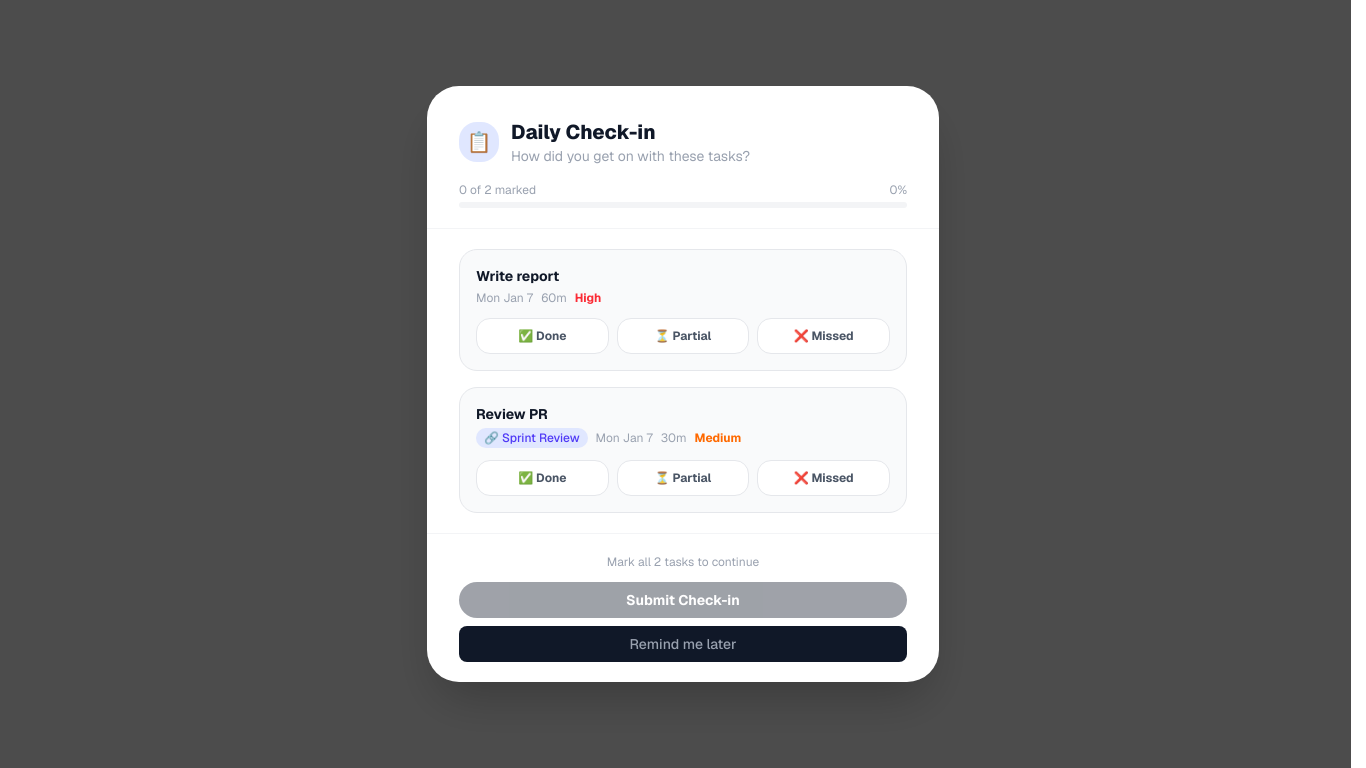
CheckInModal — footer › shows Saving while submitting
Step 1. Click the button "✅ Done" below "60" → (542, 336), box x1=476 y1=318 x2=609 y2=354
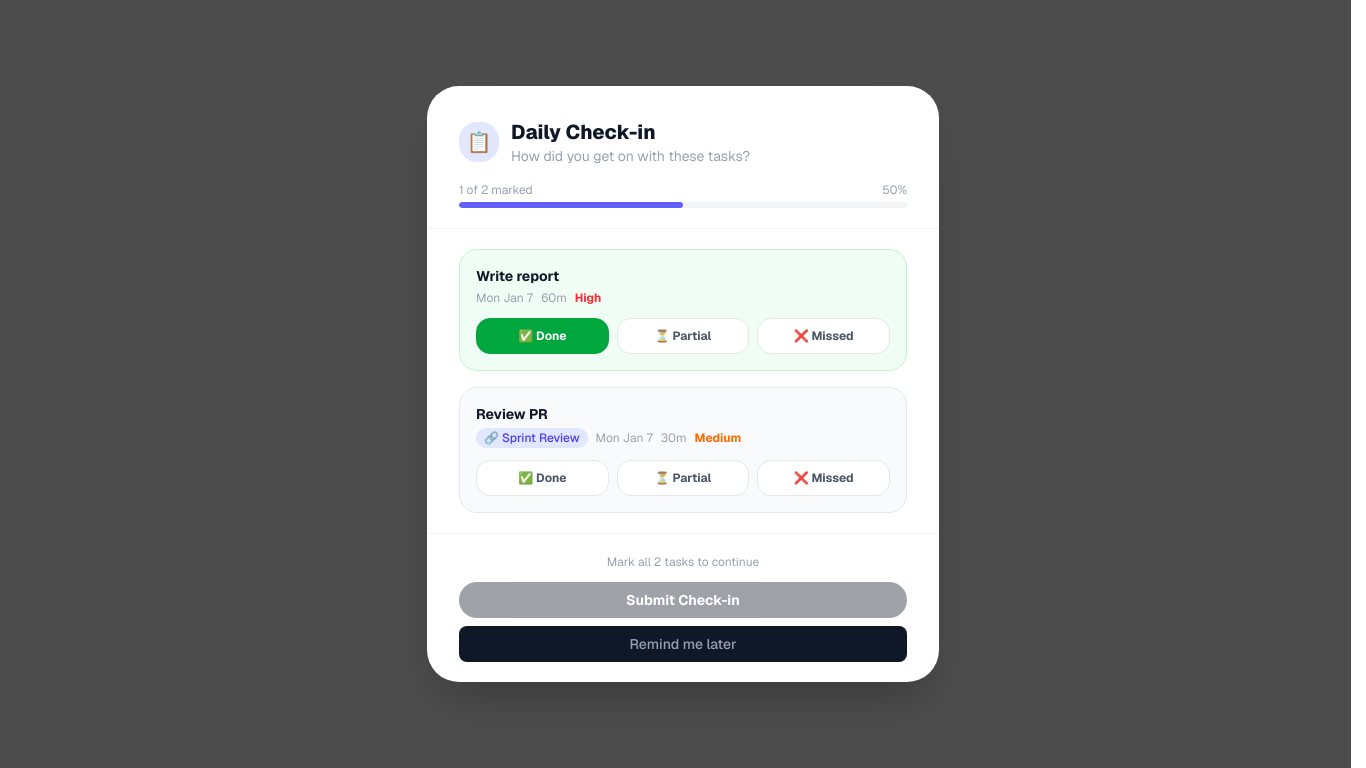
Step 2. Click the button "✅ Done" below "Sprint Review" → (542, 478), box x1=476 y1=460 x2=609 y2=496
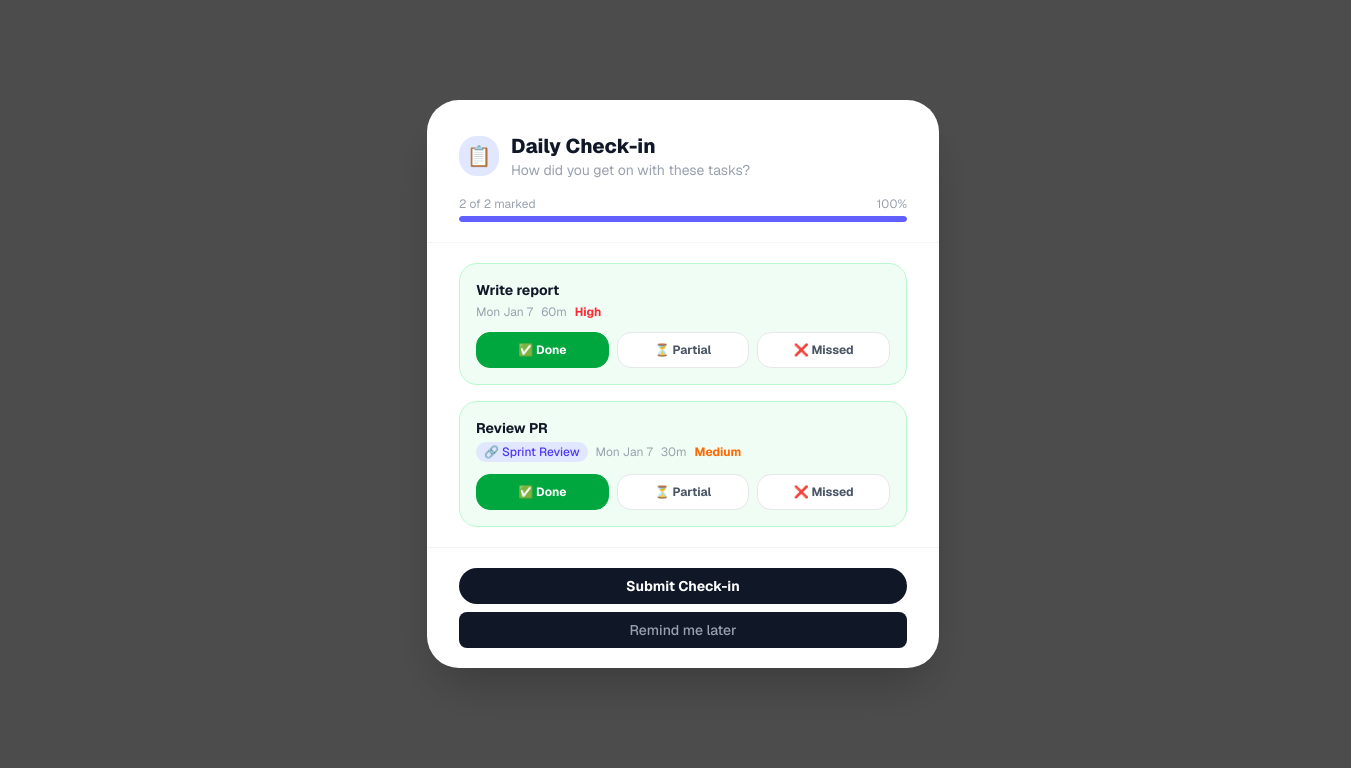
Step 3. Click the button "Submit Check-in" → (683, 586), box x1=459 y1=568 x2=907 y2=604
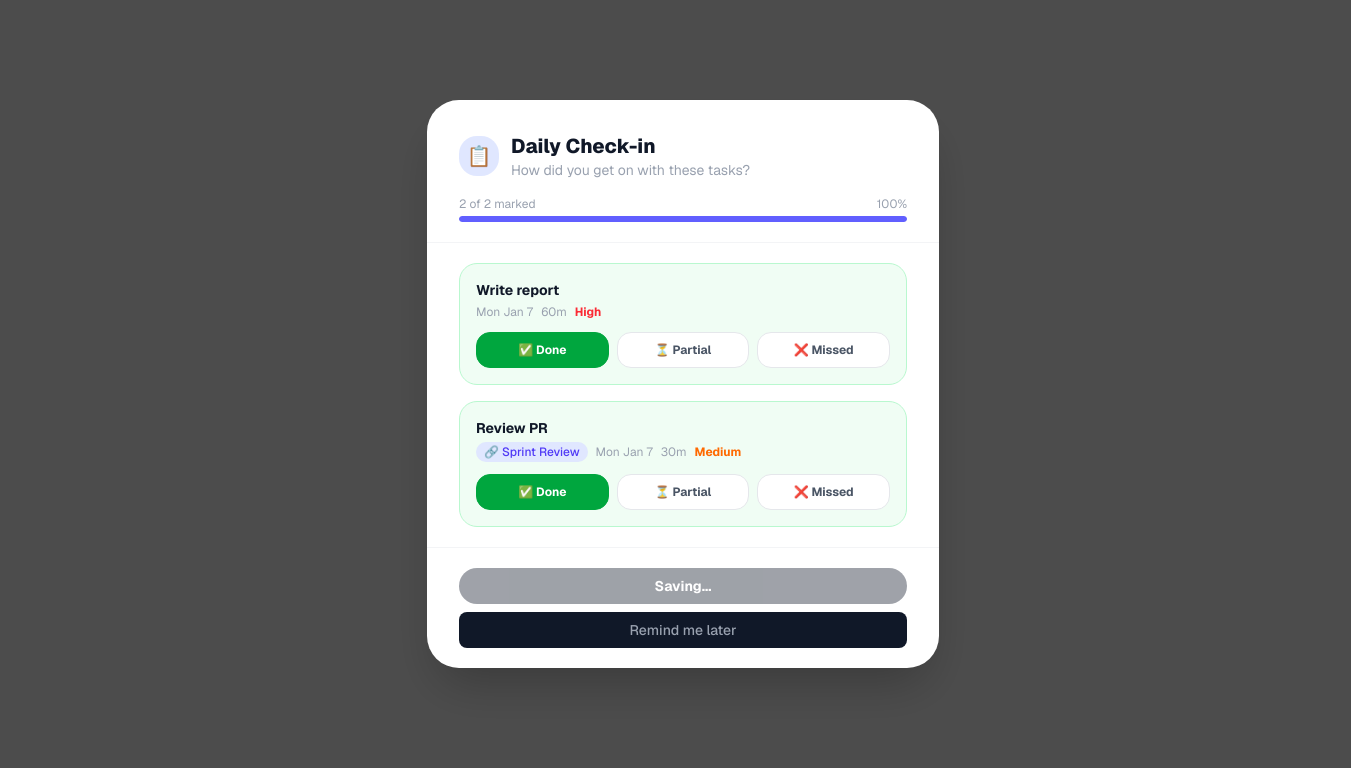
expect the button "Saving…" is shown: met, box x1=459 y1=568 x2=907 y2=604
